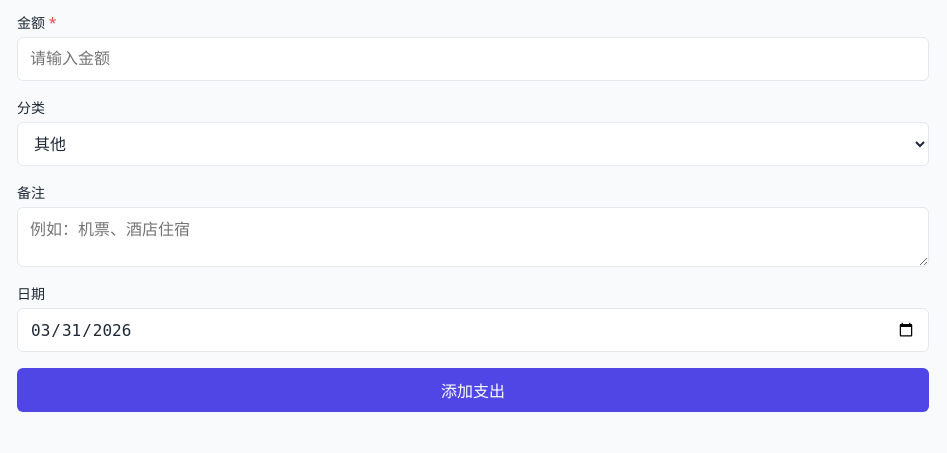
Test: ExpenseForm › 金额为空时显示验证错误
金额留空，直接提交
Click the button "添加支出": click(473, 390) [17,368,929,412]
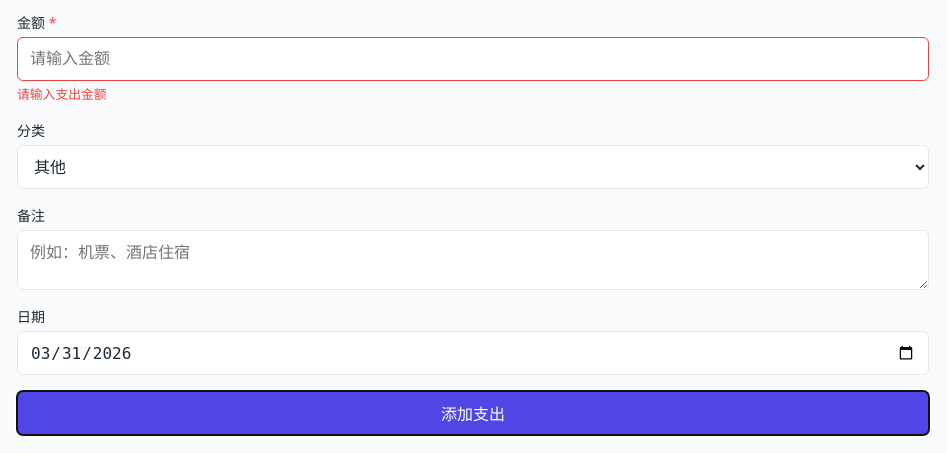
Expected: the text "请输入支出金额" is shown, [17,85,107,103]
